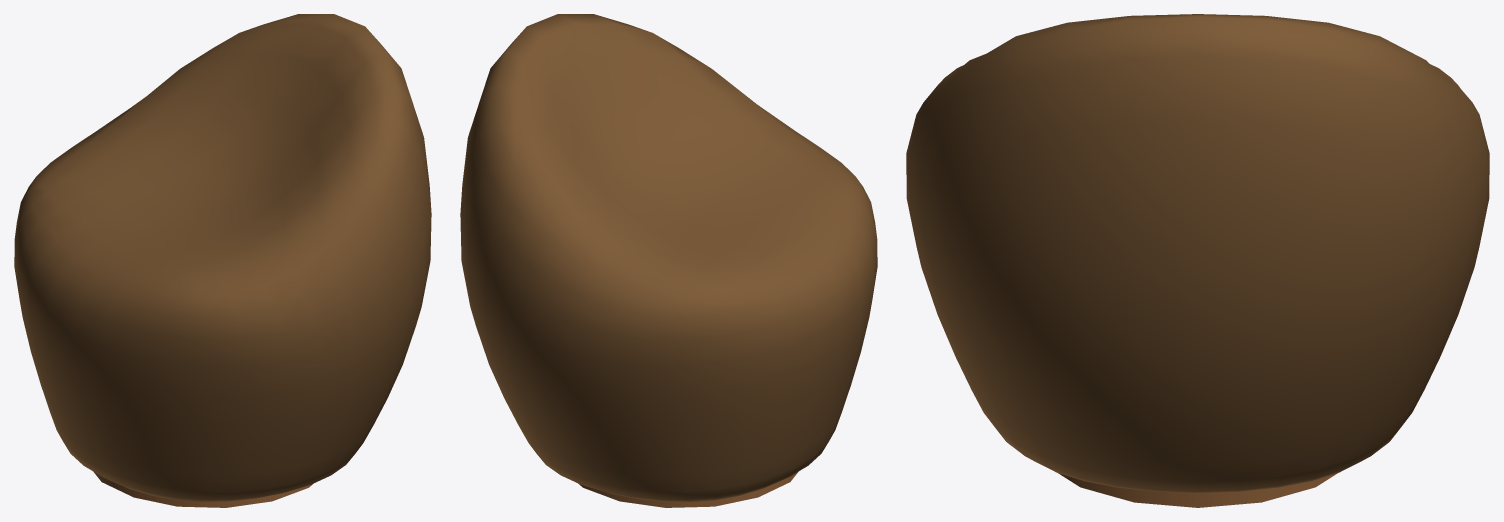
File: beanbag_03_brown.fbx
The picture shows the model from 3 angles, left to right: view 1: azimuth 30°, elevation 25°; view 2: azimuth 150°, elevation 25°; view 3: azimuth 270°, elevation 25°; orthographic projection. The views are drawn at different scales.
Visible parts, largest first — view 1: beanbag_03_brown; view 2: beanbag_03_brown; view 3: beanbag_03_brown.
Boxes of the visible parts, x1=… form: beanbag_03_brown: x1=14, y1=14, x2=431, y2=507; beanbag_03_brown: x1=460, y1=14, x2=877, y2=507; beanbag_03_brown: x1=906, y1=14, x2=1489, y2=507.
Bounding box in the file's own units: 80.92 × 86.21 × 87.42.
Materials: 2 (2 with a texture image).
